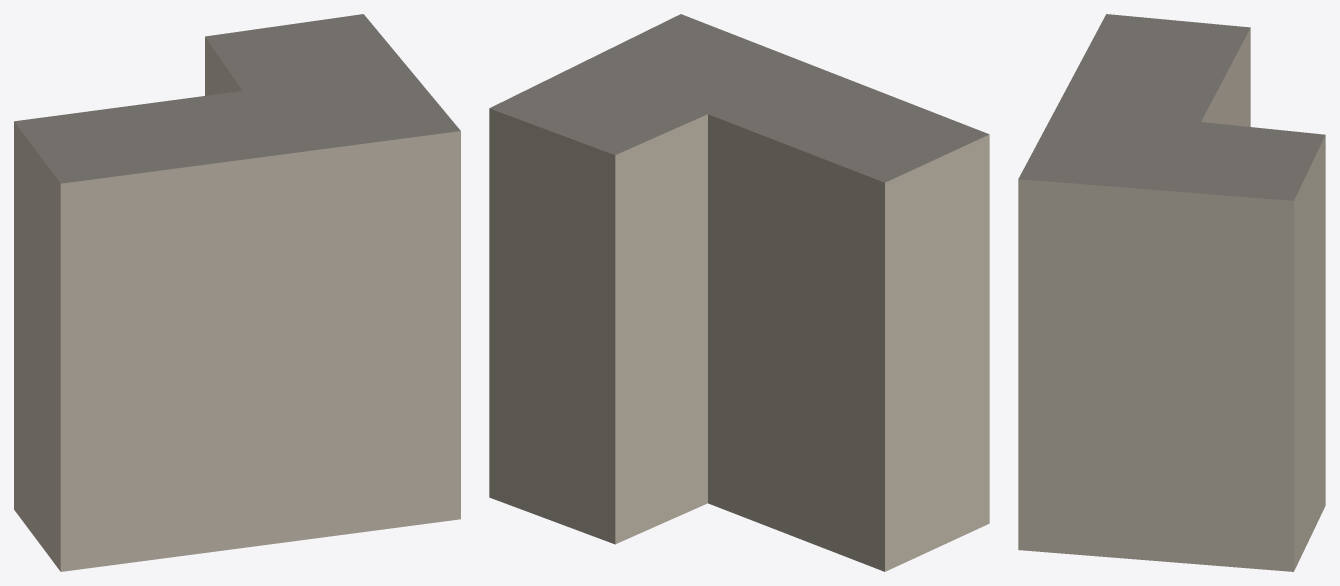
3 renders of one model, left to right at view 1: azimuth 30°, elevation 25°; view 2: azimuth 150°, elevation 25°; view 3: azimuth 270°, elevation 25°, orthographic. The views are drawn at different scales.
Visible parts, largest first — view 1: HP-w505636161; view 2: HP-w505636161; view 3: HP-w505636161.
Boxes of the visible parts, left/top/right/bottom form: HP-w505636161: left=14, top=14, right=460, bottom=571; HP-w505636161: left=489, top=14, right=989, bottom=571; HP-w505636161: left=1018, top=14, right=1325, bottom=571.
Bounding box in the file's own units: 19.46 × 18 × 13.52.
